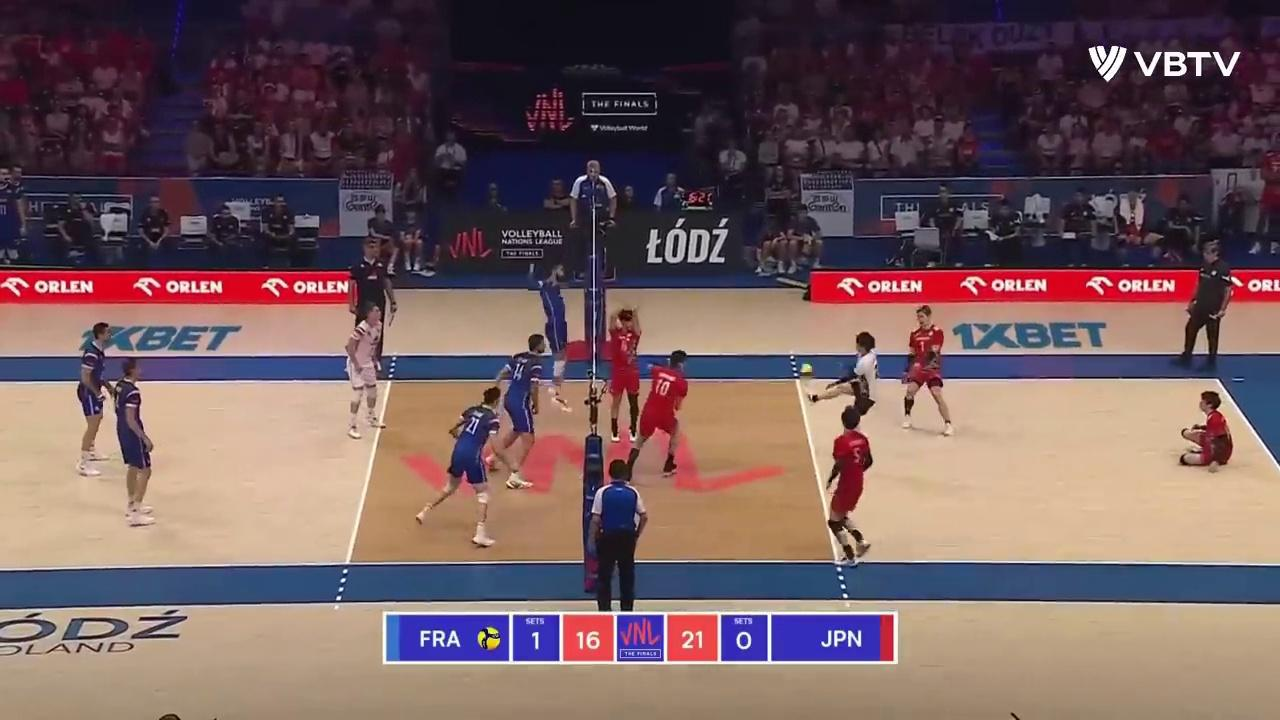ball: (798, 364, 815, 382)
